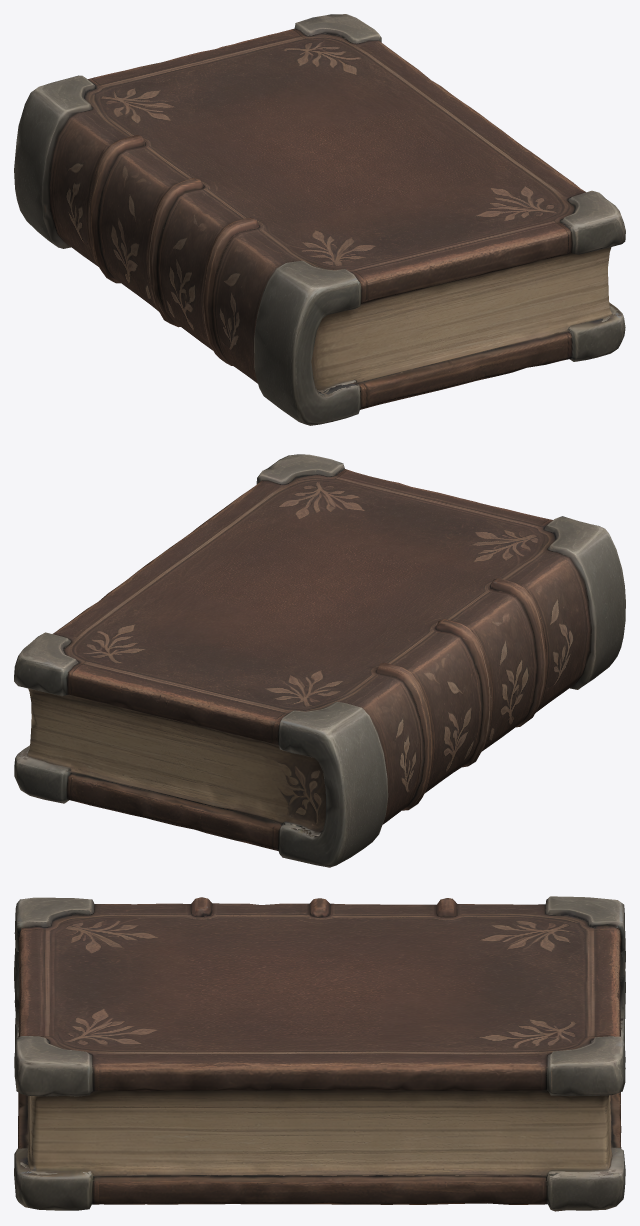
The model's file is Prop_GreenhouseLog.fbx.
The picture shows the model from 3 angles, top to bottom: view 1: azimuth 30°, elevation 25°; view 2: azimuth 150°, elevation 25°; view 3: azimuth 270°, elevation 25°; orthographic projection. The views are drawn at different scales.
Parts seen in each view (by area): view 1: texture_mapping; view 2: texture_mapping; view 3: texture_mapping.
Boxes of the visible parts, <box> form: texture_mapping: <box>14,14,625,425</box>; texture_mapping: <box>14,454,625,867</box>; texture_mapping: <box>14,896,625,1211</box>.
Bounding box in the file's own units: 0.7018 × 1 × 0.2805.
Materials: 1 (1 with a texture image).
